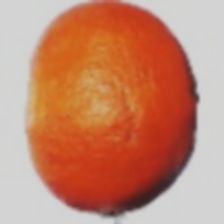tangerine: (15, 38, 178, 208)
